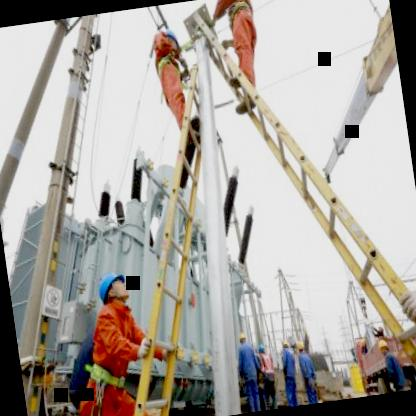helmet: (94, 268, 131, 312), (377, 336, 390, 359), (236, 328, 248, 350), (256, 341, 267, 360), (294, 337, 304, 355), (280, 336, 290, 354)
